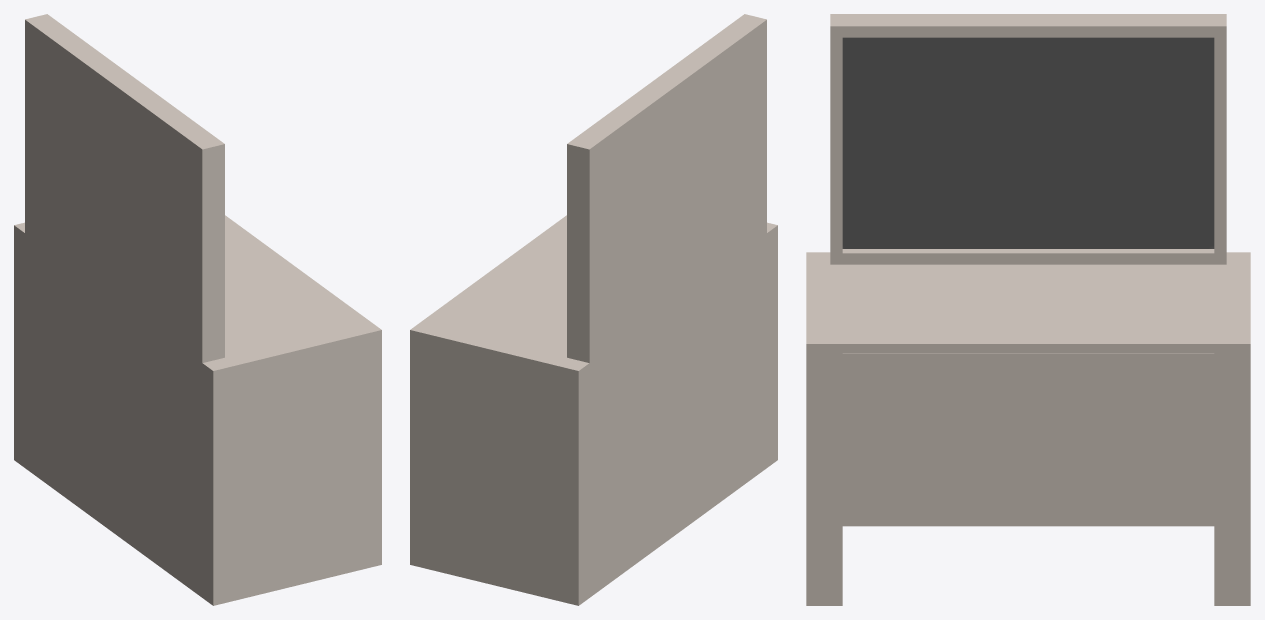
Rendered from dressing_table.fbx.
The picture shows the model from 3 angles, left to right: view 1: azimuth 30°, elevation 25°; view 2: azimuth 150°, elevation 25°; view 3: azimuth 270°, elevation 25°; orthographic projection. The views are drawn at different scales.
Visible parts, largest first — view 1: dress; view 2: dress; view 3: dress.
Part boxes in pixels (box(x1,y1,x2,y2)): dress: box(14, 14, 381, 605); dress: box(410, 14, 777, 605); dress: box(806, 14, 1250, 605).
Size of the model in its own units: 60.27 by 153 by 123.
